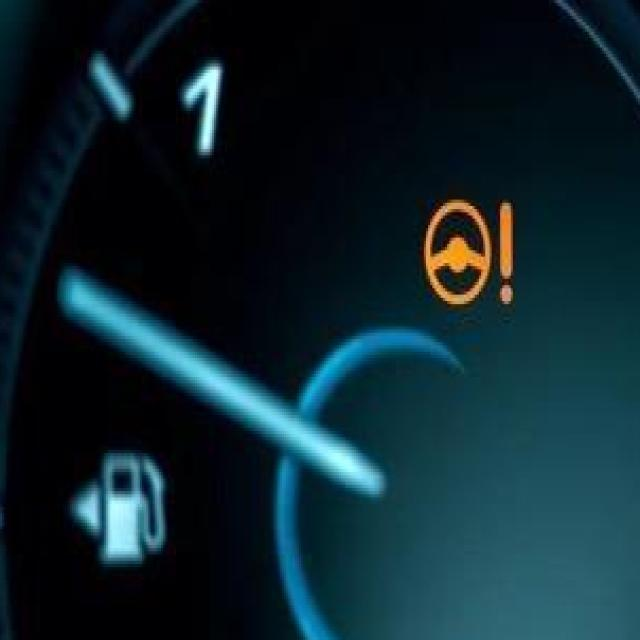Electronic Power Steering: (420, 196, 518, 310)
